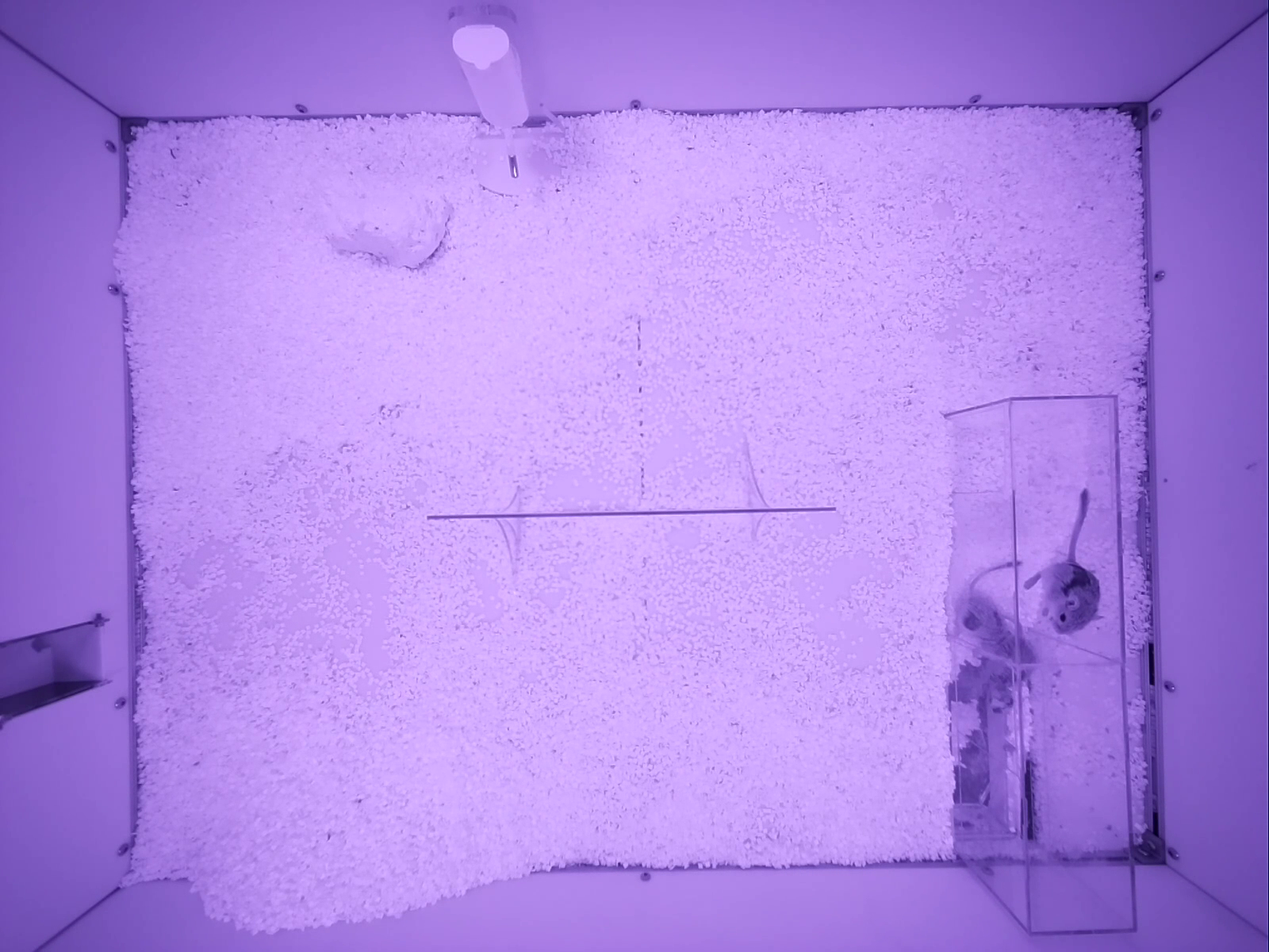adult_back: (953, 561, 1034, 710), (1026, 489, 1098, 633)
